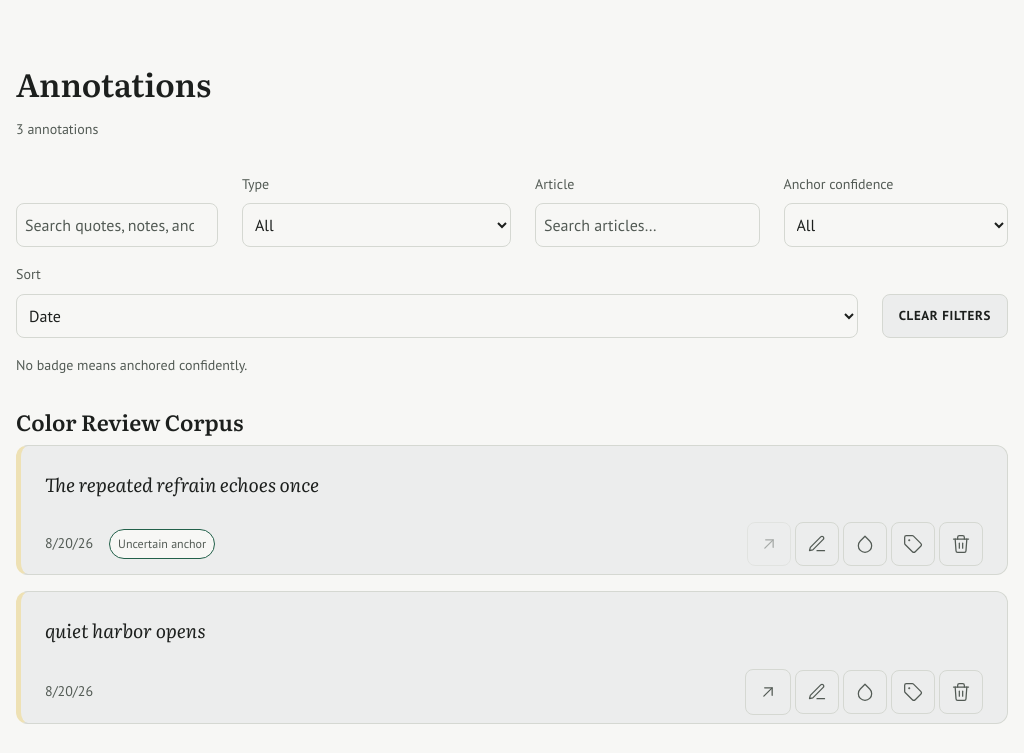
Test: ReviewView highlight colors (issue #119) › ambiguous row: recolor works, 'Uncertain anchor' badge survives, jump stays disabled
This screenshot has width=1024, height=753.
Click the button named "Change color, currently Neutral: The repeated refrain echoes": (865, 544) [843, 522, 887, 566]
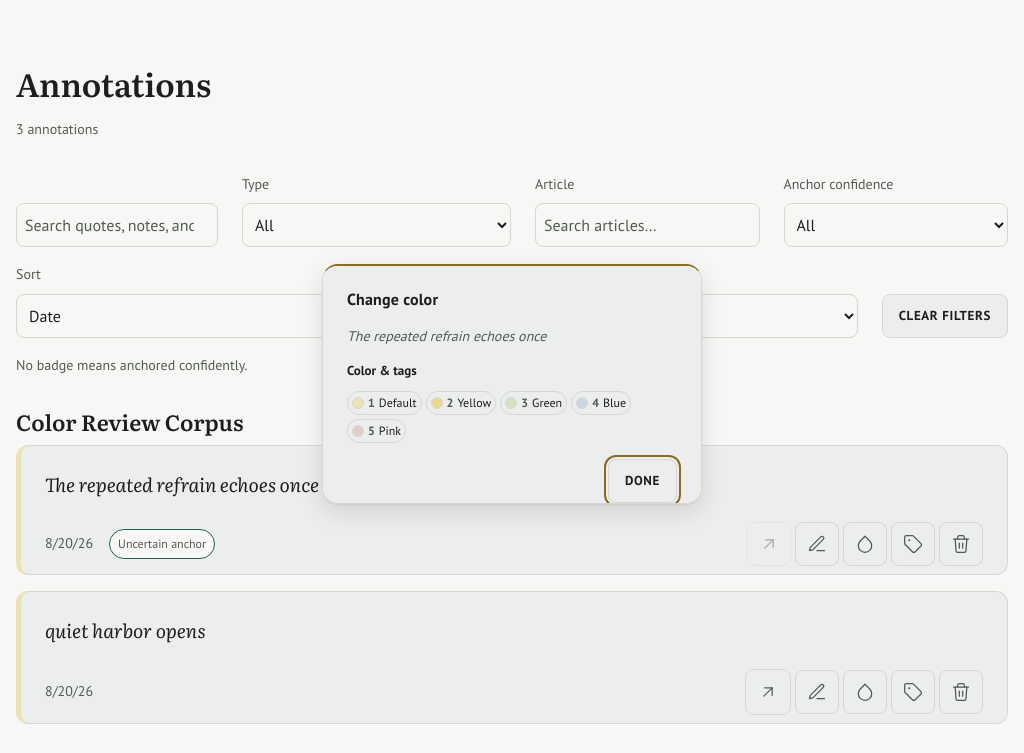
Click the button with aria-label "Apply slot 5: Pink": (377, 431) [347, 419, 406, 443]
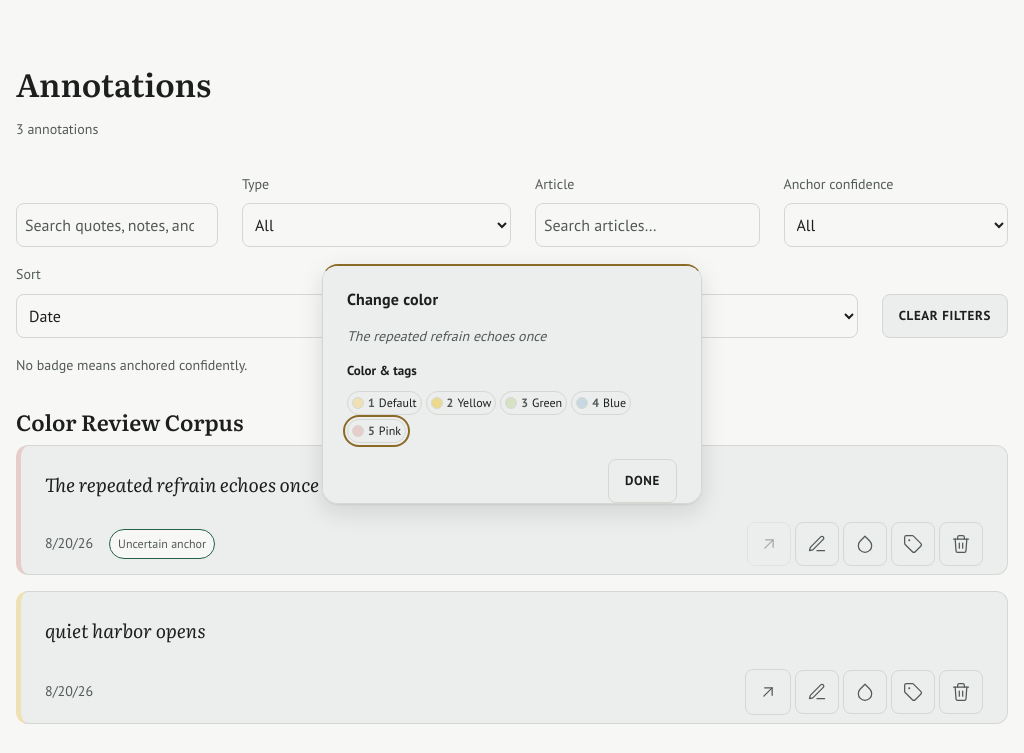
Check: the text with class "review-badge-ambiguous" reads "Uncertain anchor", box [118, 536, 206, 552]
Check: the list item has class "review-item-color-pink", box [16, 444, 1008, 575]
